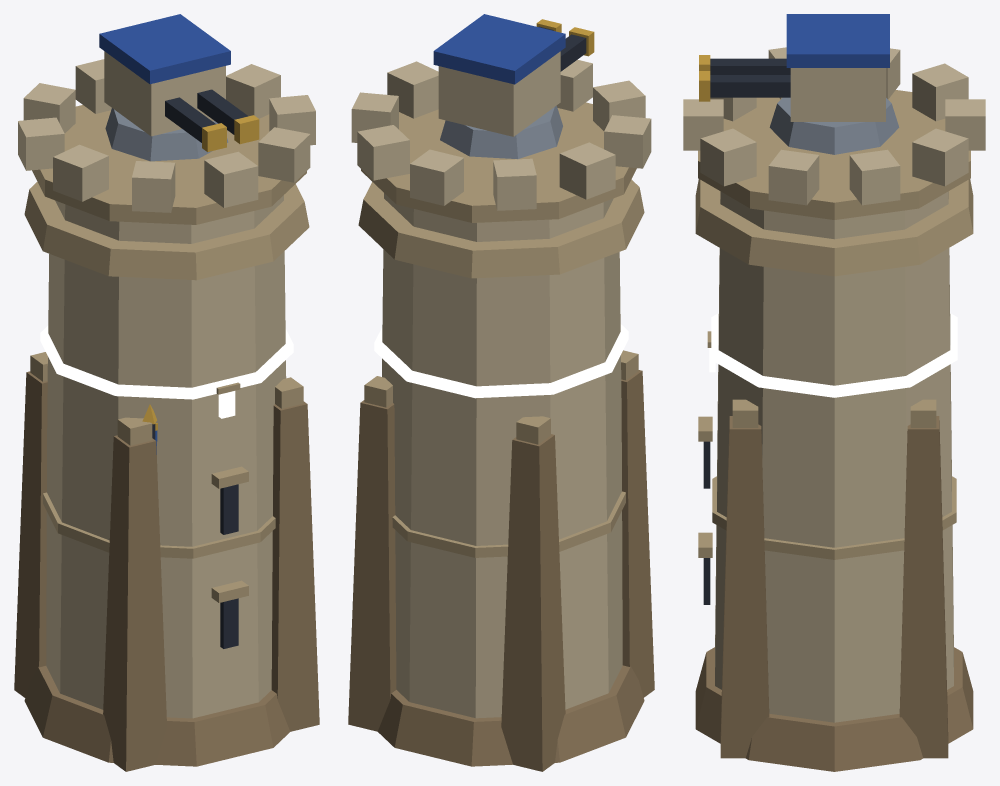
File: tower_t3.glb
3 renders of one model, left to right at view 1: azimuth 30°, elevation 25°; view 2: azimuth 150°, elevation 25°; view 3: azimuth 270°, elevation 25°, orthographic.
Visible parts, largest first — view 1: body, part_turret, glow; view 2: body, part_turret, glow; view 3: body, part_turret, glow.
Part boxes in pixels (x1,y1,x2,y2): body: (14, 59, 319, 771); part_turret: (99, 14, 259, 161); glow: (40, 325, 293, 418); body: (348, 59, 654, 771); part_turret: (433, 14, 594, 159); glow: (374, 324, 628, 398); body: (683, 47, 985, 771); part_turret: (699, 14, 899, 154); glow: (709, 313, 957, 397).
Size of the model in its own units: 1.87 by 4.65 by 1.88.
